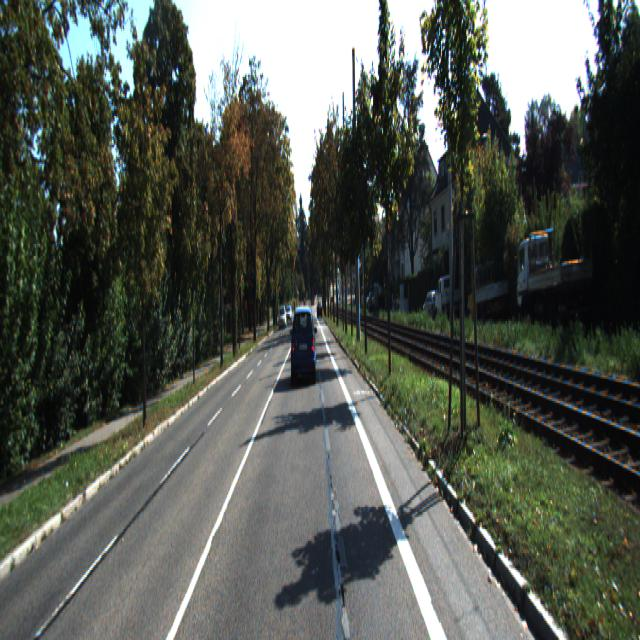Car: (516, 218, 594, 328), (467, 259, 510, 326), (290, 304, 317, 387), (435, 273, 461, 318), (424, 289, 443, 320)
